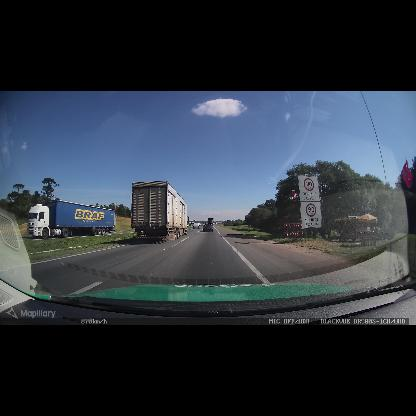R-19: (297, 175, 322, 229)
